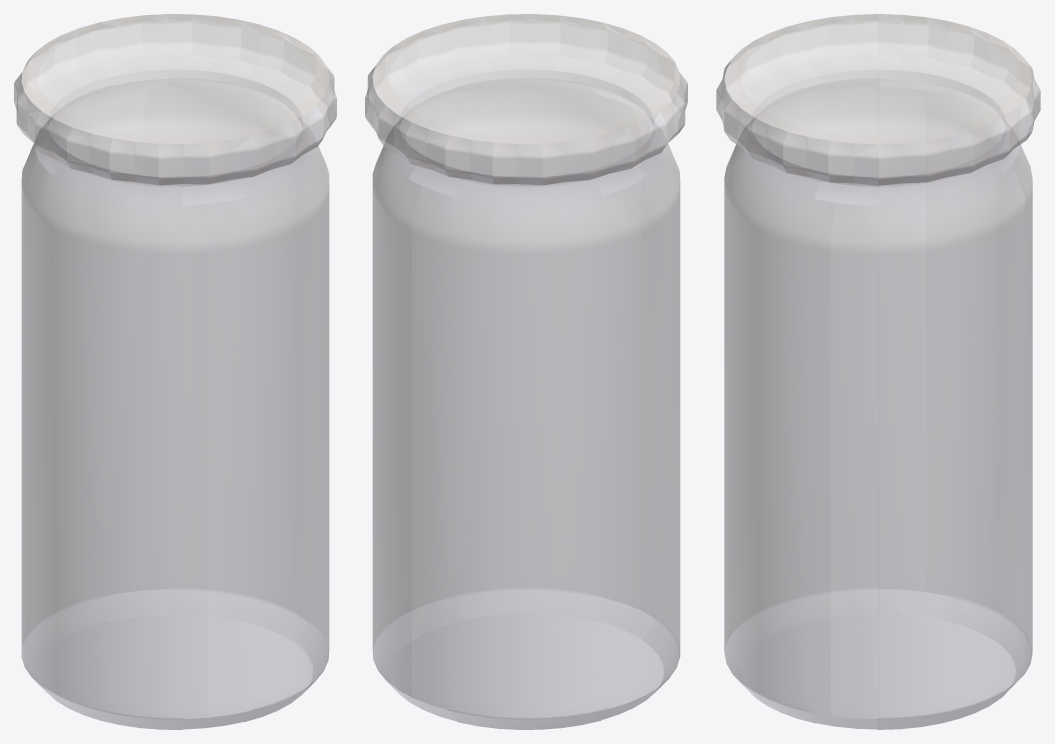
File: kav2_2.glb
3 renders of one model, left to right at view 1: azimuth 30°, elevation 25°; view 2: azimuth 150°, elevation 25°; view 3: azimuth 270°, elevation 25°, orthographic.
Parts seen in each view (by area): view 1: kav2_2; view 2: kav2_2; view 3: kav2_2.
Part boxes in pixels (x1=…): kav2_2: x1=14, y1=14, x2=336, y2=729; kav2_2: x1=365, y1=14, x2=687, y2=729; kav2_2: x1=716, y1=14, x2=1040, y2=729.
Size of the model in its own units: 1.53 by 3.1 by 1.53.
1 material, 1 textured.
